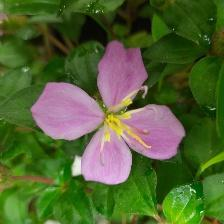malabar melastome: (30, 38, 188, 188)
